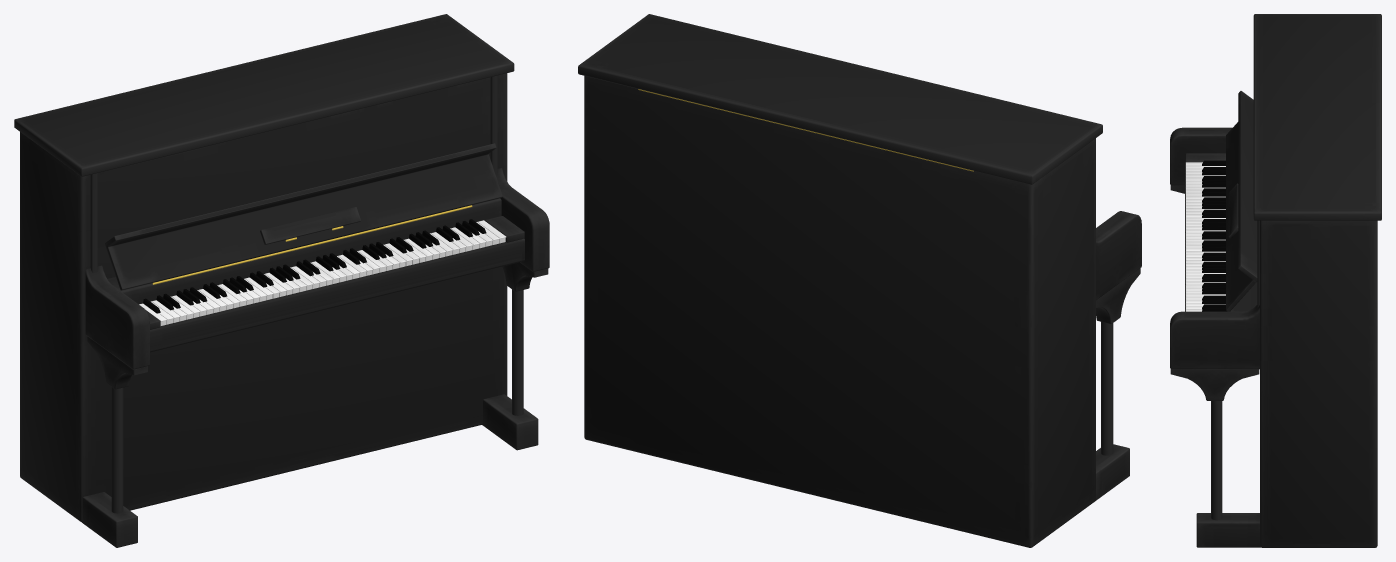
File: piano.glb
3 renders of one model, left to right at view 1: azimuth 30°, elevation 25°; view 2: azimuth 150°, elevation 25°; view 3: azimuth 270°, elevation 25°, orthographic. The views are drawn at different scales.
Visible parts, largest first — view 1: Object_8, Object_22, Object_32, Object_34, Object_4; view 2: Object_8; view 3: Object_8, Object_22, Object_34, Object_32.
Part boxes in pixels (x1,y1,x2,y2): Object_8: (14,14,524,547); Object_22: (482,75,549,450); Object_32: (139,220,506,325); Object_34: (143,219,486,313); Object_4: (152,205,472,284); Object_8: (578,14,1141,547); Object_8: (1170,14,1381,547); Object_22: (1170,220,1260,547); Object_34: (1202,160,1226,311); Object_32: (1185,162,1225,311).
Bounding box in the file's own units: 1.89 × 1.5 × 0.8487.
5 materials, 3 textured.
